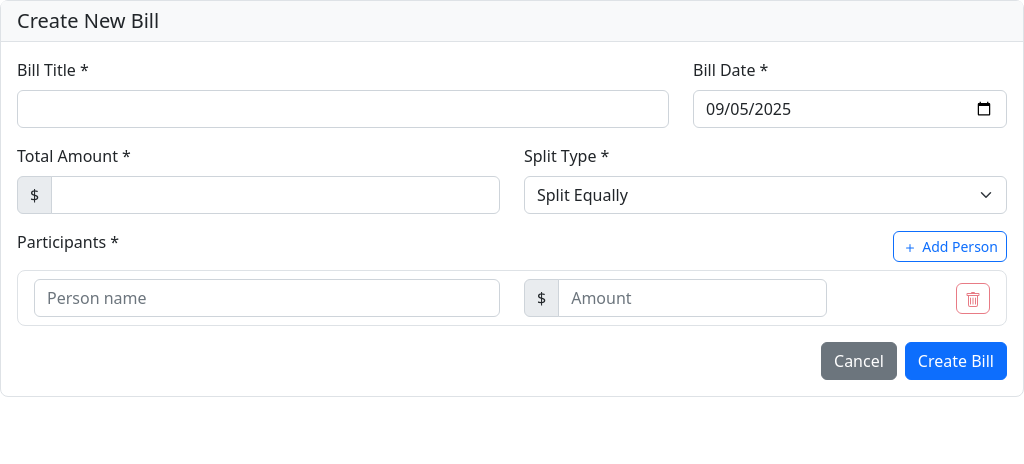
Scenario: BillForm › Form Validation › shows validation error for person name in custom split
Select "Custom Amounts" in the dropdown showing "Split Equally" at [766, 195], box x1=524 y1=176 x2=1007 y2=214
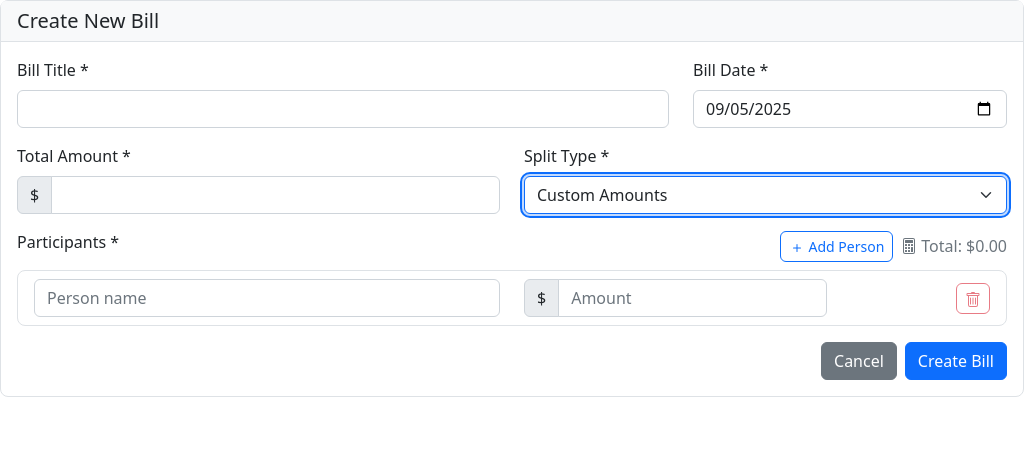
Click the button "Create Bill".
click(956, 361)  # box x1=905 y1=342 x2=1007 y2=380
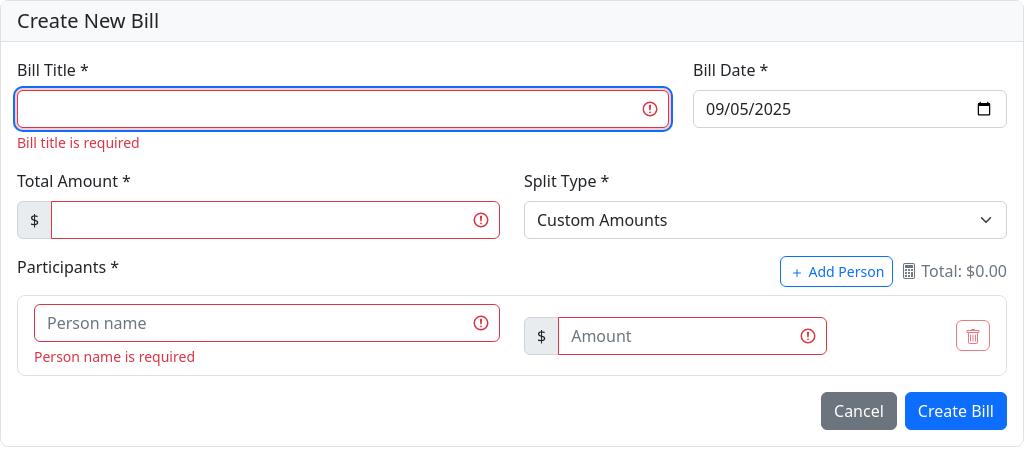
Expected: the text "Person name is required" is shown, x1=34 y1=347 x2=195 y2=366
